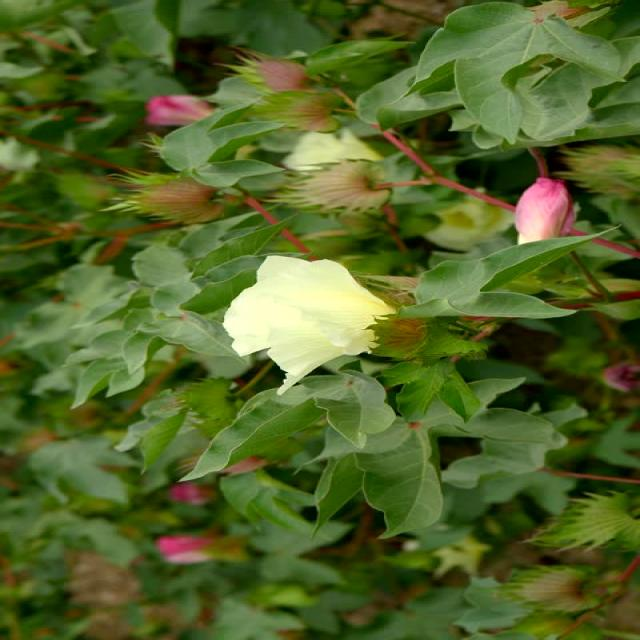Healthy Leaf: (4, 2, 640, 640)
